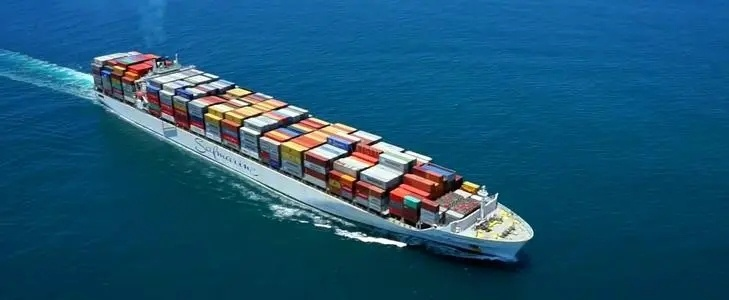Cargoship: (88, 45, 534, 262)
